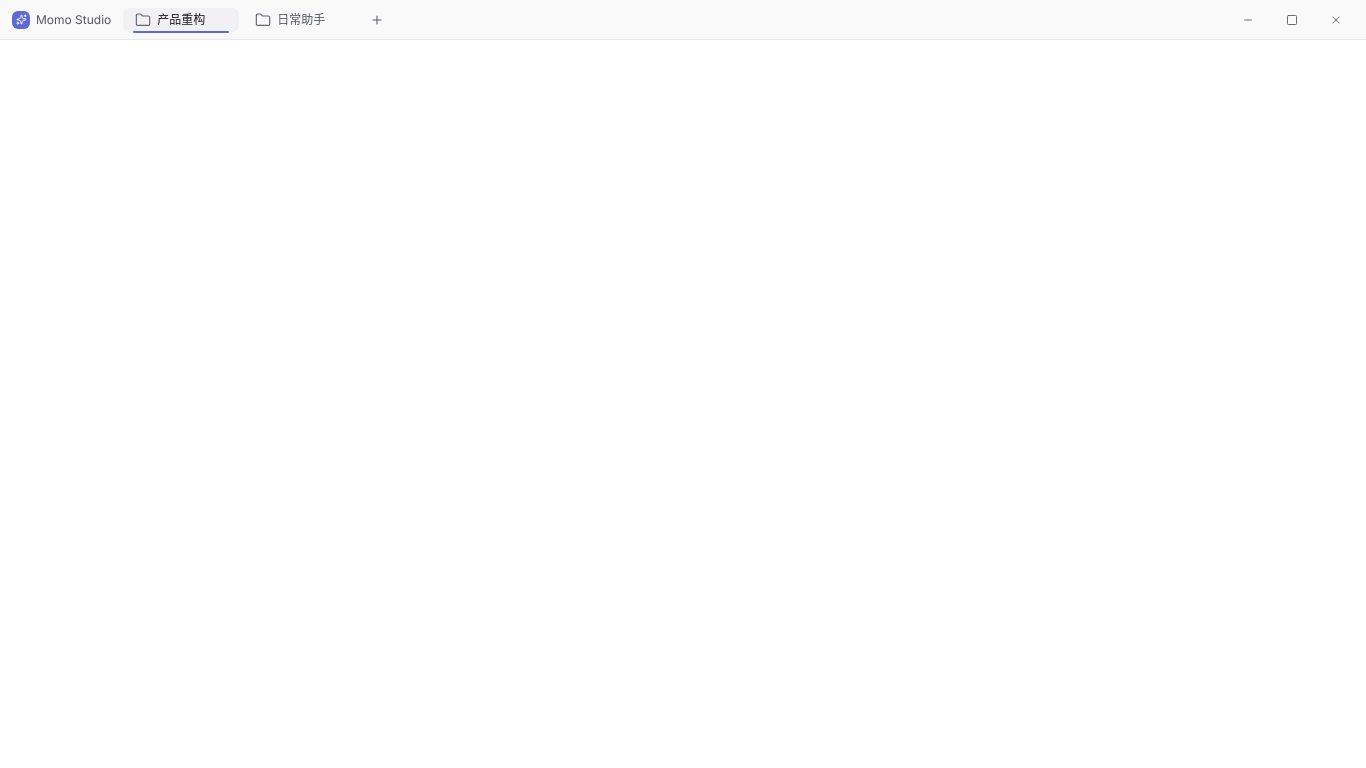
Test: TitleBar › 点击新建按钮打开 CreateWorkspaceDialog
The image size is (1366, 768).
Click the button named "新建工作空间".
click(377, 20)  # box [363,6,391,34]
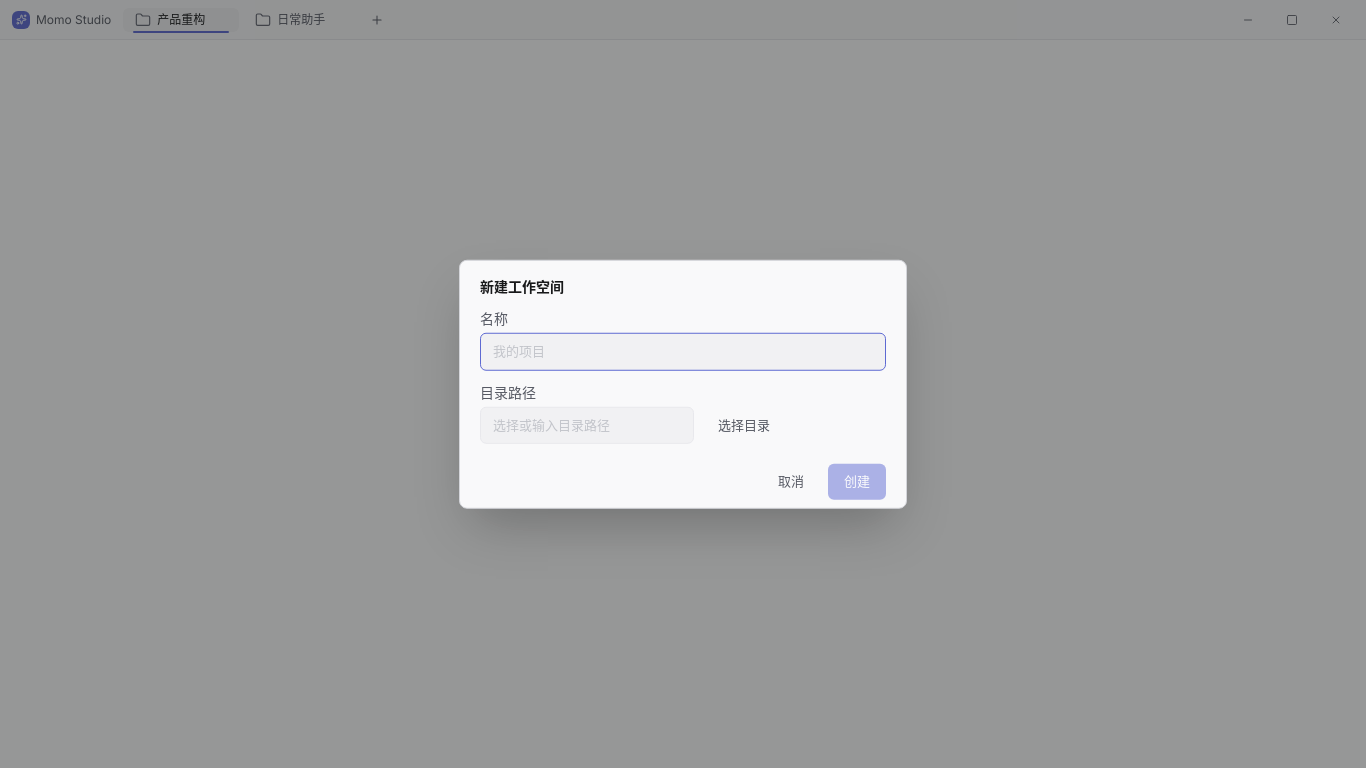
Result: the heading "新建工作空间" is shown at [480,277,564,297]
